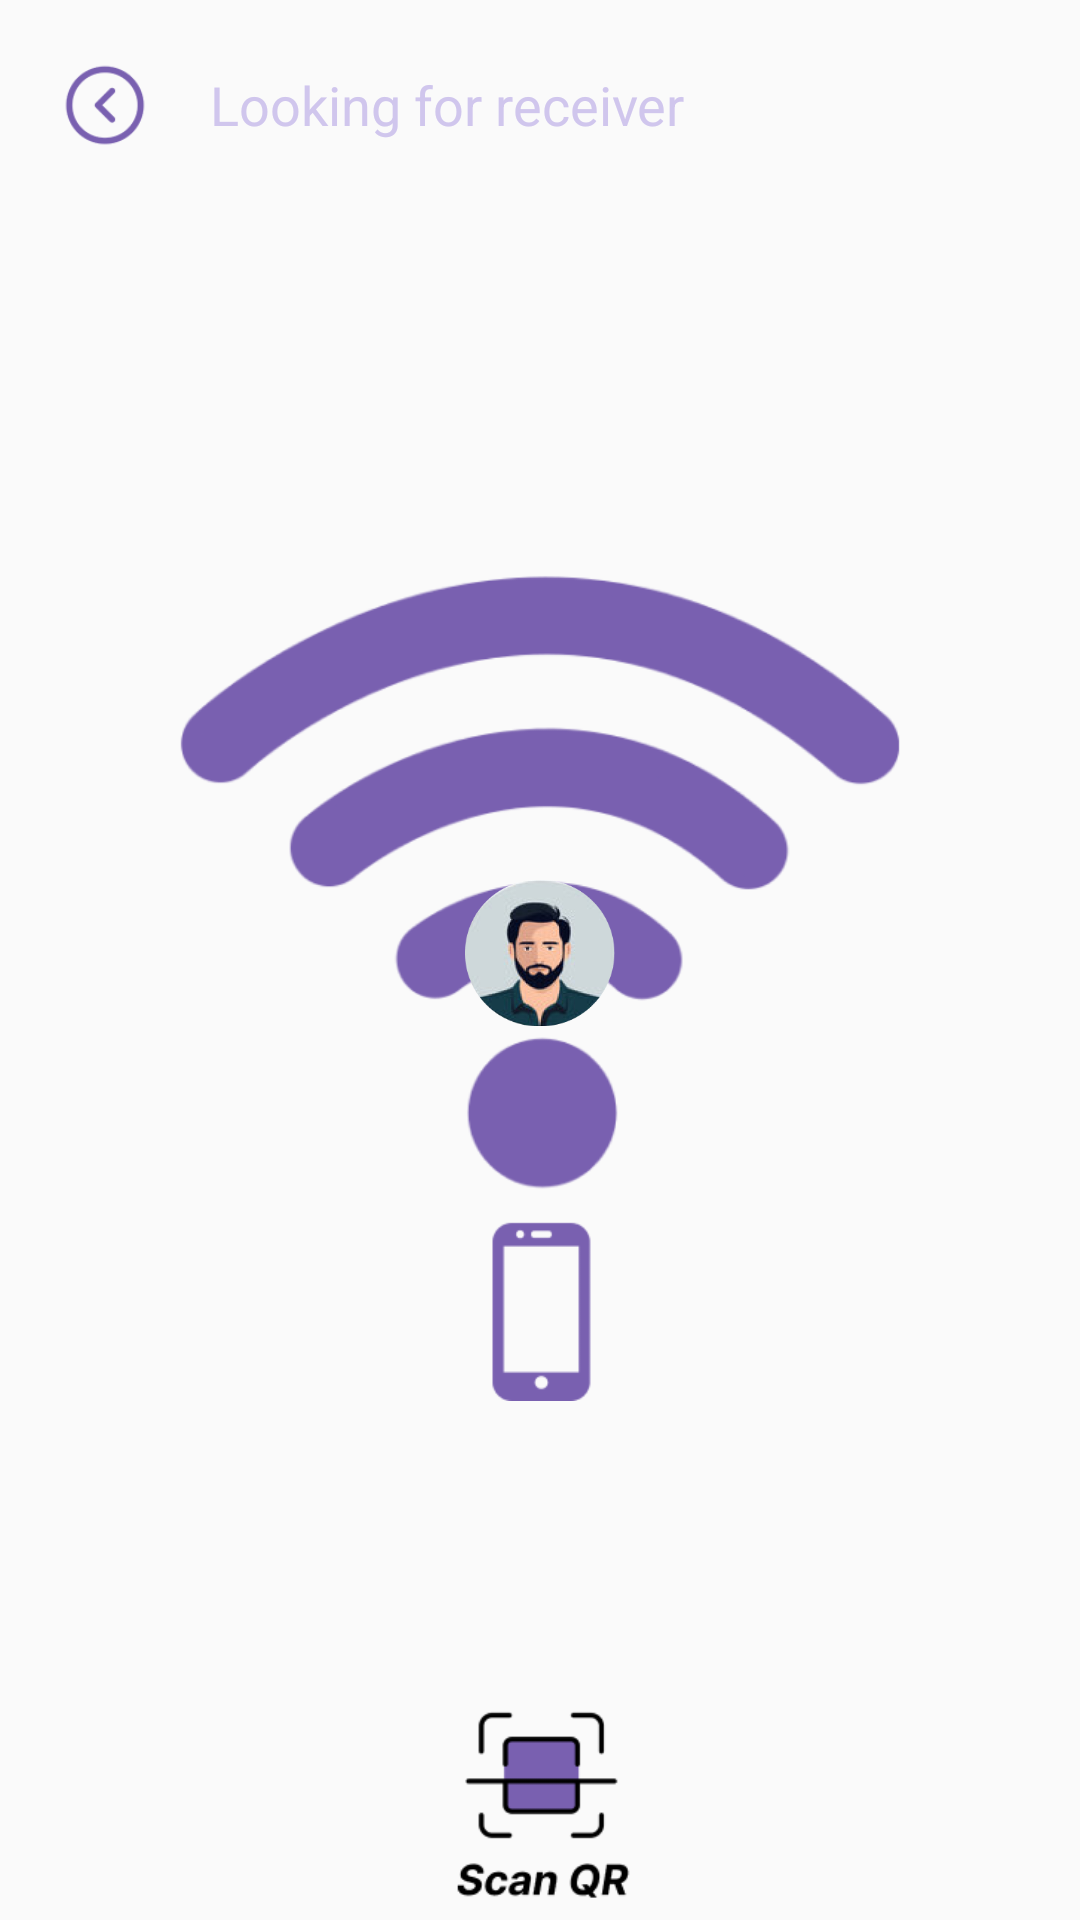

Screen size 1080w x 1920h. Icon name, then its box in pixels as (x1, y1, x2, y2):
go back: (65, 66, 145, 145)
